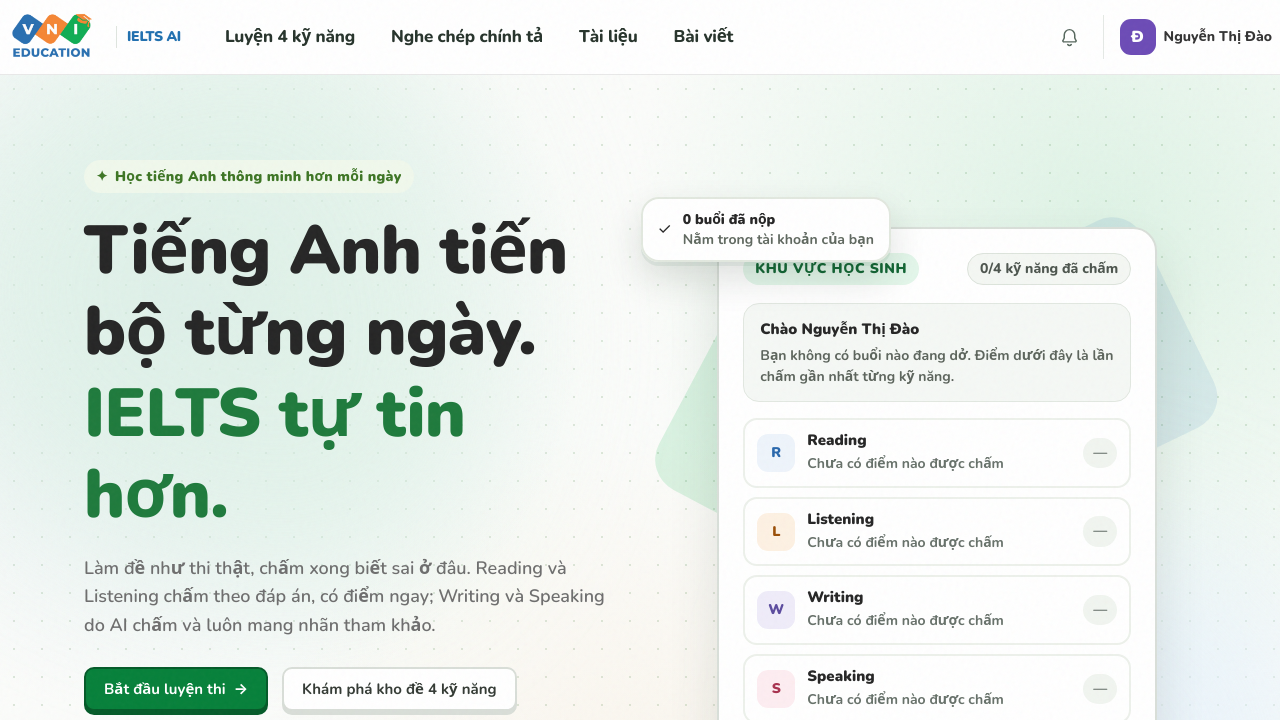
Scenario: opens notifications and admits there are none
What coordinates should you click on to do the following:
click the button named "Thông báo"
I would click on:
 (1070, 37)
Its box is [1048, 15, 1092, 59].
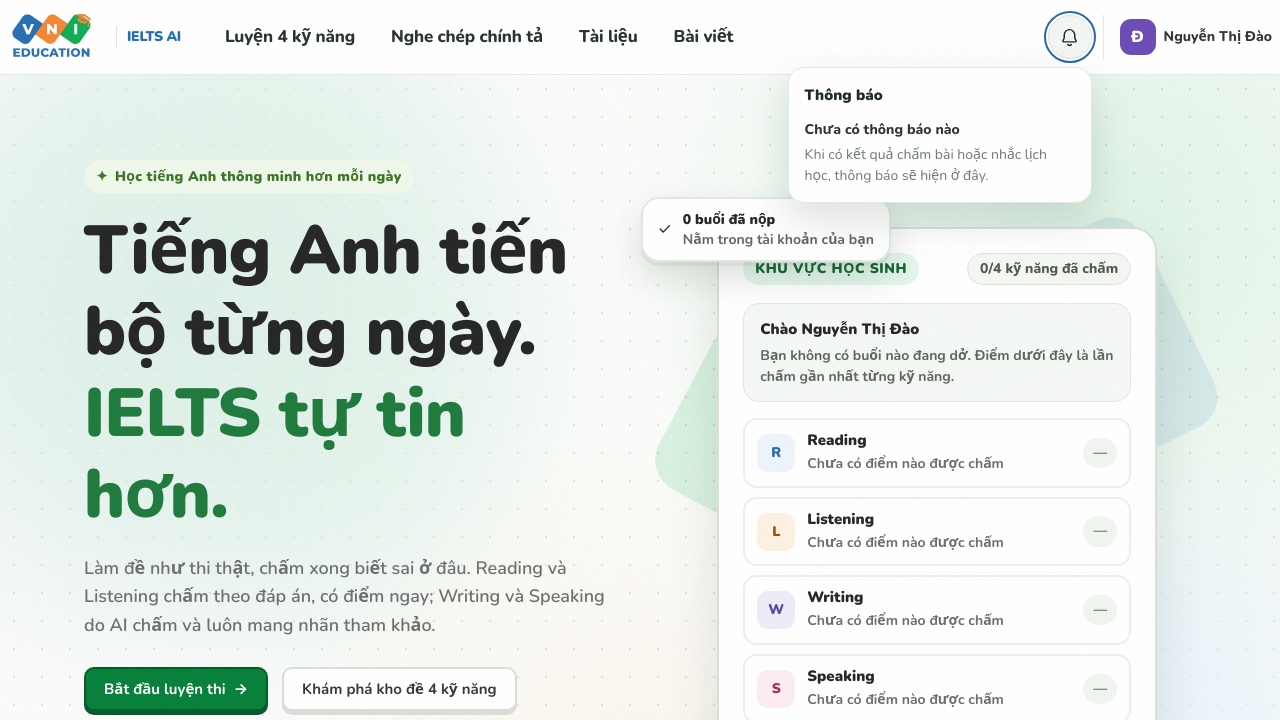
Expected: the text "Chưa có thông báo nào" is shown, [805, 120, 960, 138]
